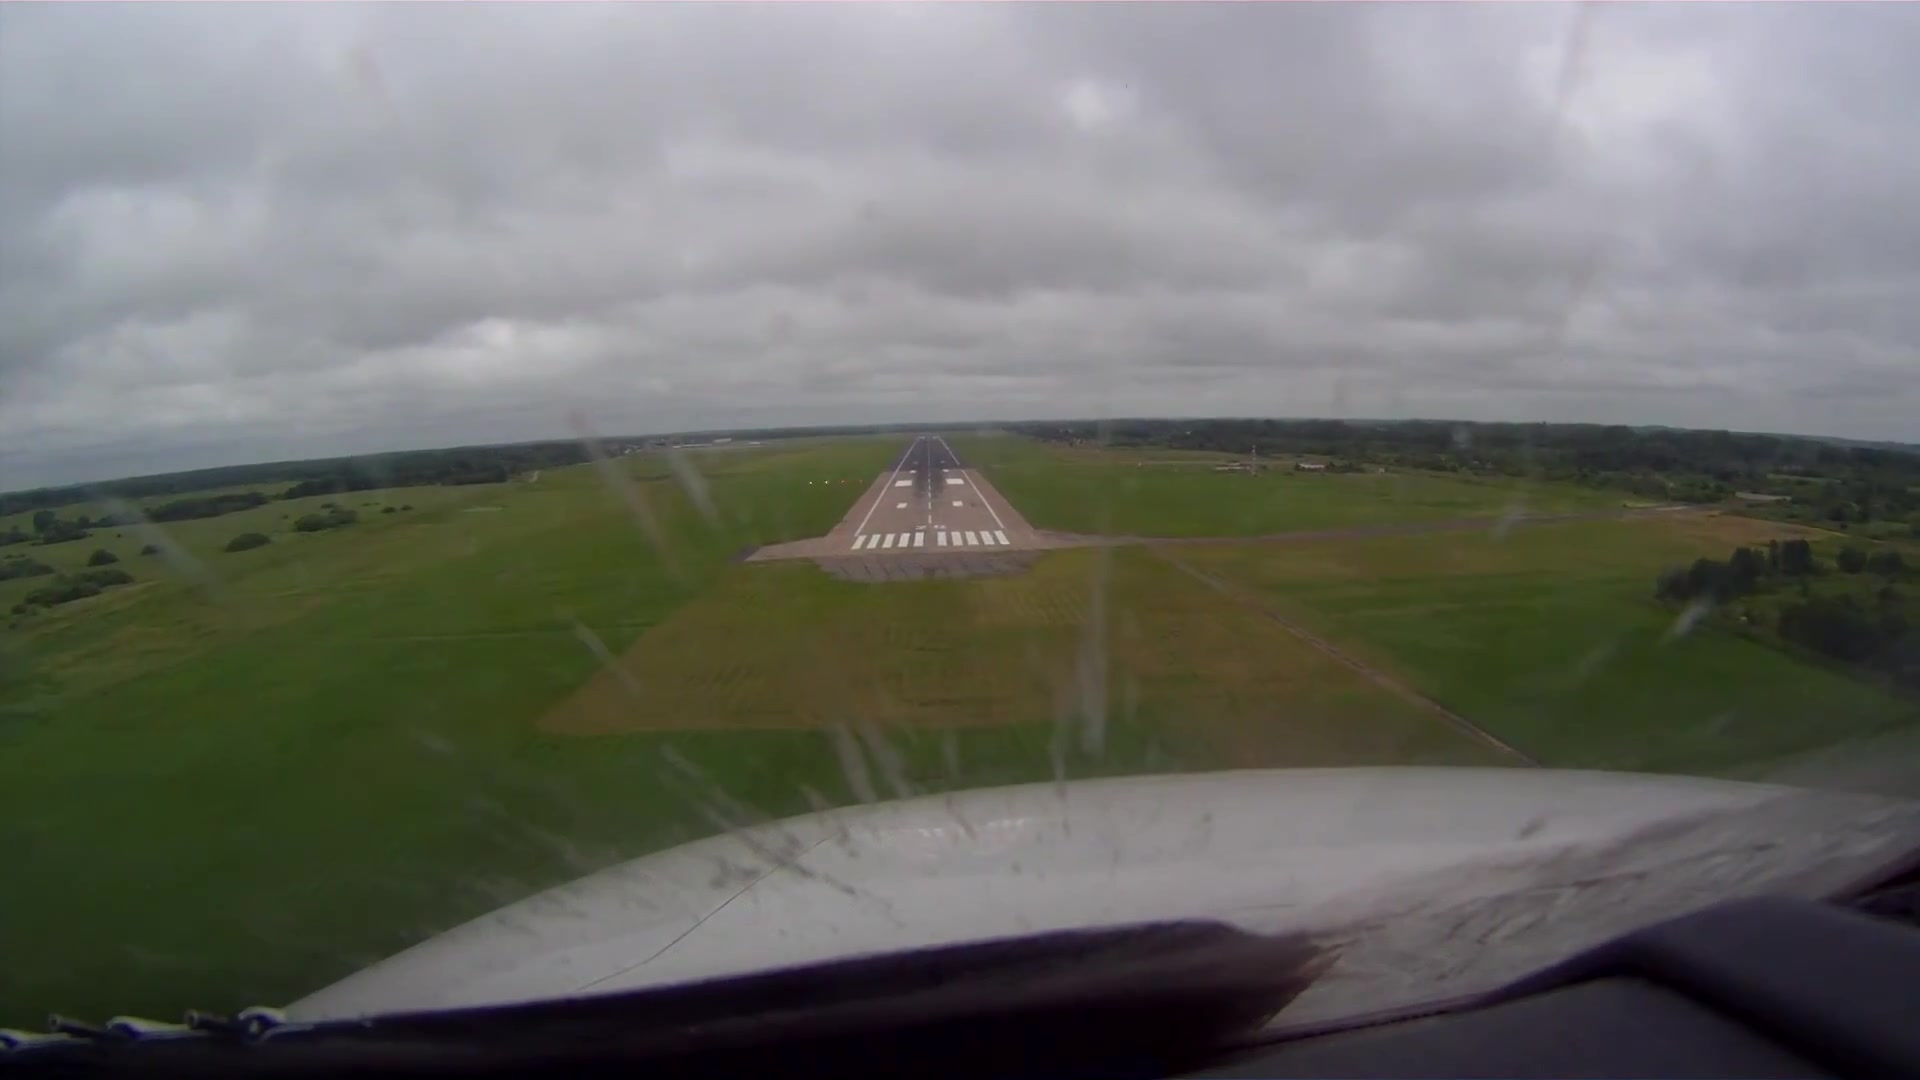entrance: (851, 529, 1011, 553)
runway: (843, 436, 1014, 560)
